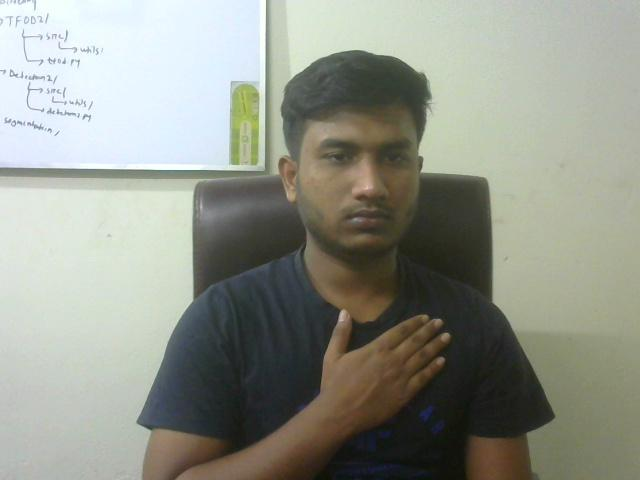Please: (294, 284, 465, 440)
